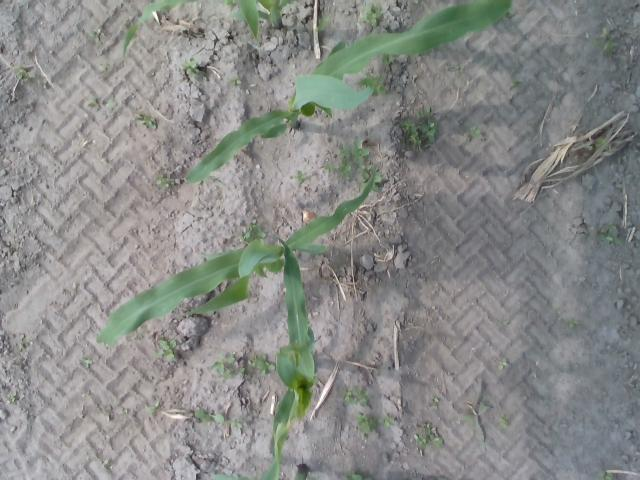Maize: (167, 2, 511, 184), (96, 168, 378, 342), (210, 236, 316, 480), (123, 0, 295, 58)
Weeds: (399, 108, 436, 148), (212, 353, 245, 376), (343, 139, 369, 164), (358, 2, 382, 28), (422, 421, 443, 446), (344, 387, 368, 406), (356, 412, 375, 434), (240, 220, 262, 237), (158, 340, 176, 360), (194, 410, 224, 422), (258, 354, 274, 376), (600, 226, 618, 244), (138, 114, 156, 129), (318, 15, 332, 32), (148, 398, 161, 416), (87, 98, 115, 106), (184, 60, 199, 74), (294, 170, 306, 185), (336, 164, 351, 176), (414, 434, 426, 448), (351, 473, 372, 480), (468, 126, 481, 137), (17, 66, 28, 78), (90, 30, 102, 41), (382, 415, 394, 425), (498, 359, 508, 370), (156, 173, 166, 183), (13, 343, 24, 352), (511, 79, 523, 87), (368, 80, 383, 86), (6, 393, 15, 403), (383, 56, 394, 64), (81, 358, 92, 366), (567, 318, 577, 326), (248, 354, 256, 364), (231, 76, 240, 84), (604, 42, 611, 52), (233, 421, 243, 428), (596, 139, 605, 146), (432, 396, 439, 404), (500, 321, 510, 326), (595, 39, 601, 45), (501, 419, 508, 424)
